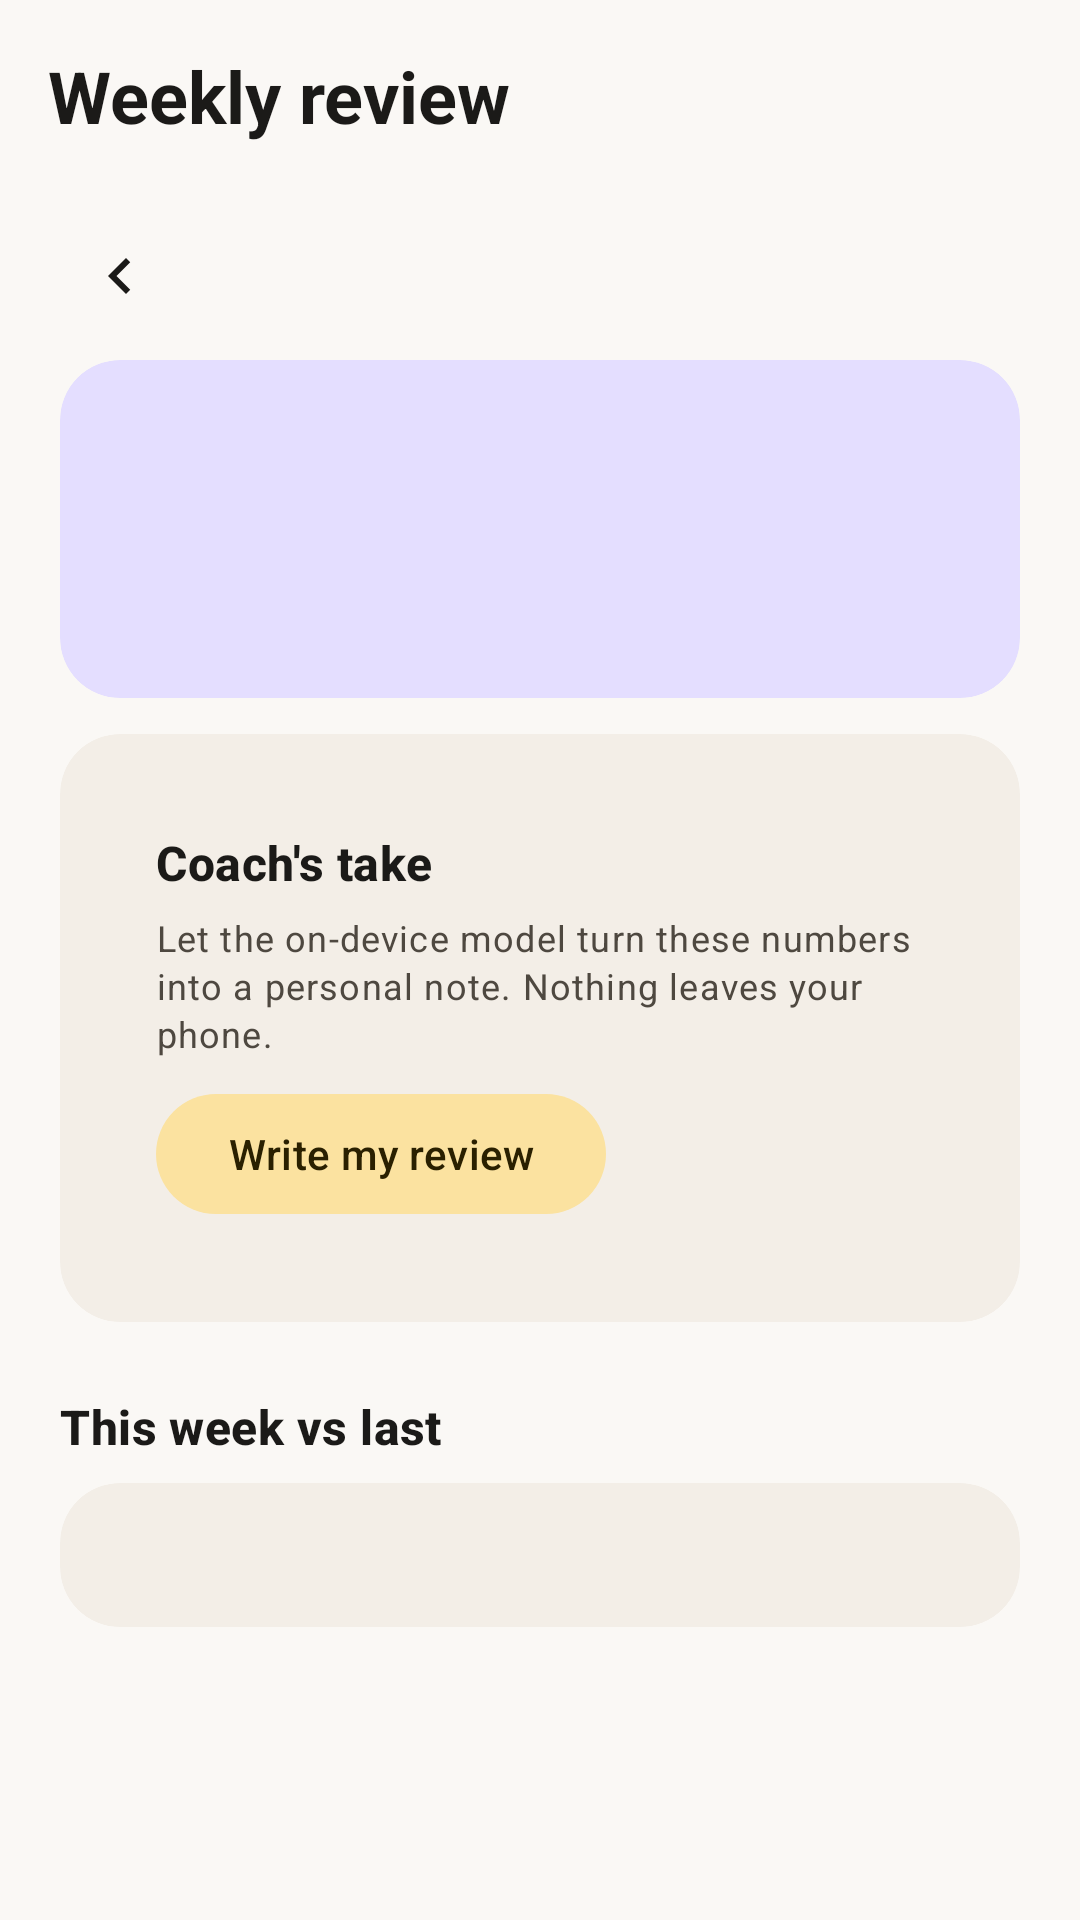

Icons on this 1080 × 1920 Android screen, each with its box as (x1, y1, x2, y2):
Previous week: (108, 258, 130, 294)
